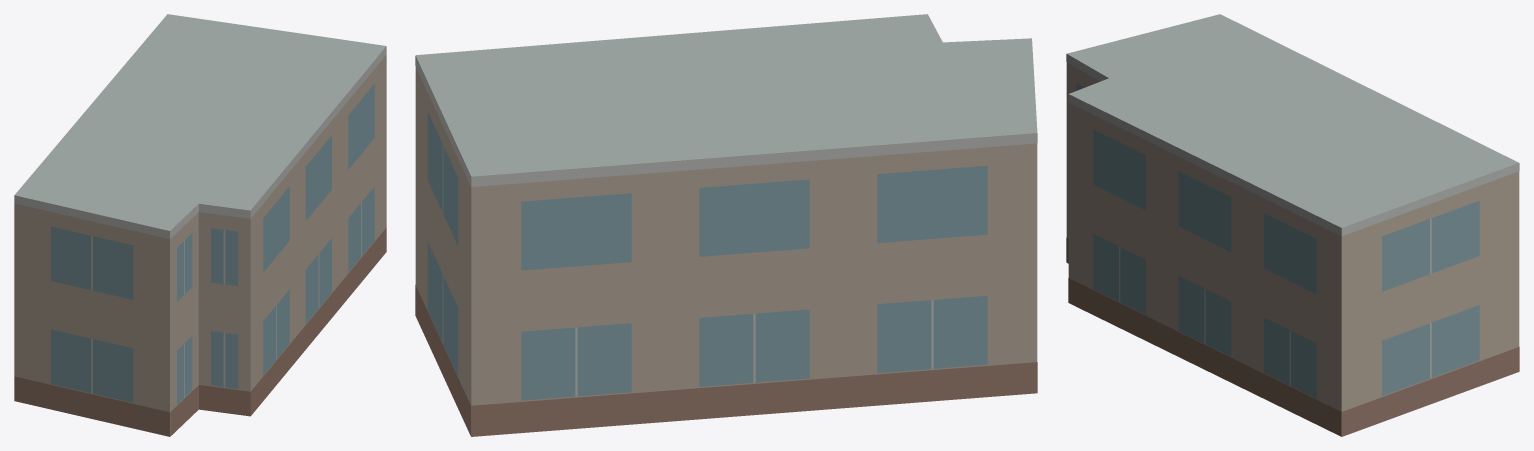
Rendered from survey-upis-32771639.glb.
3 renders of one model, left to right at view 1: azimuth 30°, elevation 25°; view 2: azimuth 150°, elevation 25°; view 3: azimuth 270°, elevation 25°, orthographic. The views are drawn at different scales.
Visible parts, largest first — view 1: survey-upis-32771639.tmp; view 2: survey-upis-32771639.tmp; view 3: survey-upis-32771639.tmp.
Boxes of the visible parts, box(x1,y1,x2,y2) form: survey-upis-32771639.tmp: box(14, 14, 386, 436); survey-upis-32771639.tmp: box(415, 14, 1037, 436); survey-upis-32771639.tmp: box(1066, 14, 1519, 436).
Size of the model in its own units: 13.42 by 6.1 by 12.
